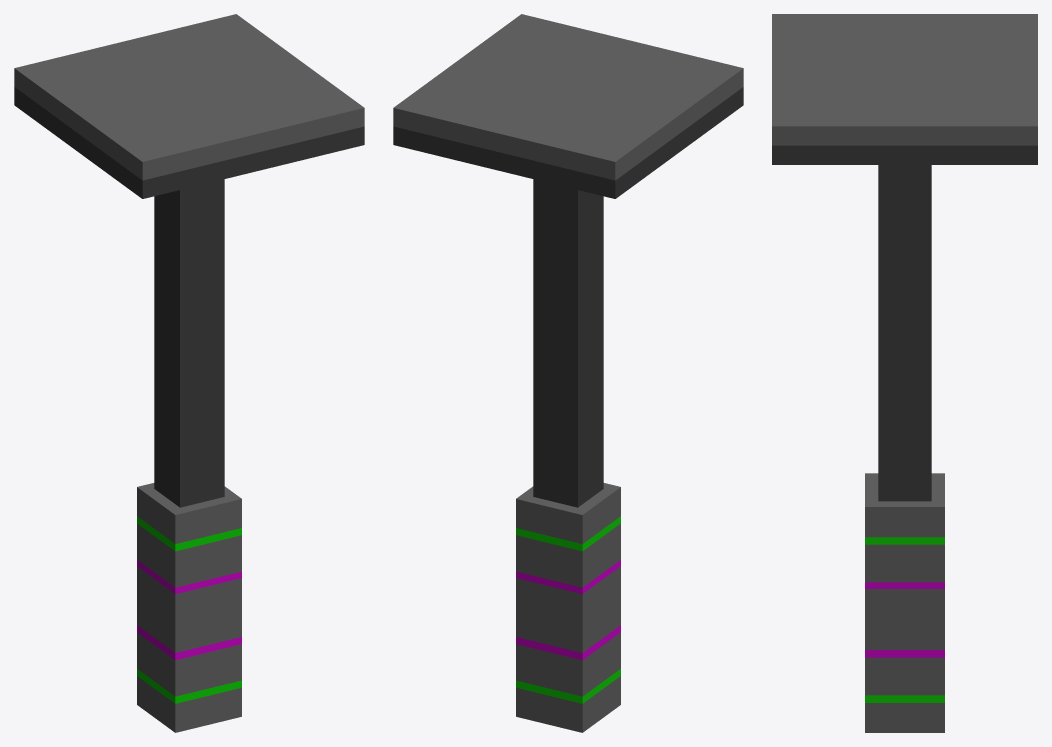
File: Pillar.fbx
3 views of the same model, side by side, from view 1: azimuth 30°, elevation 25°; view 2: azimuth 150°, elevation 25°; view 3: azimuth 270°, elevation 25° (orthographic). The views are drawn at different scales.
Visible parts, largest first — view 1: Pillar; view 2: Pillar; view 3: Pillar.
Part boxes in pixels (x1=…): Pillar: x1=14, y1=14, x2=364, y2=732; Pillar: x1=393, y1=14, x2=743, y2=732; Pillar: x1=772, y1=14, x2=1037, y2=732.
Bounding box in the file's own units: 2000 × 5360 × 2000.
